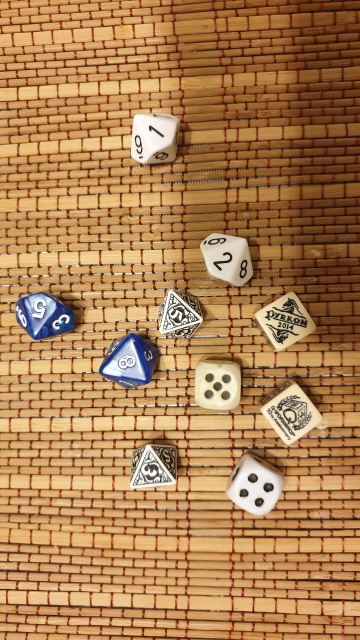d10-1: (125, 106, 190, 172)
d10-2: (195, 224, 258, 293)
d10-5: (10, 287, 78, 346)
d10-8: (102, 330, 162, 394)
d6-4: (219, 449, 288, 522)
d6-5: (191, 356, 248, 412)
d6p-1: (251, 289, 321, 354)
d6p-6: (258, 376, 320, 449)
d8p-3: (122, 439, 182, 497)
d8p-5: (153, 285, 207, 340)
